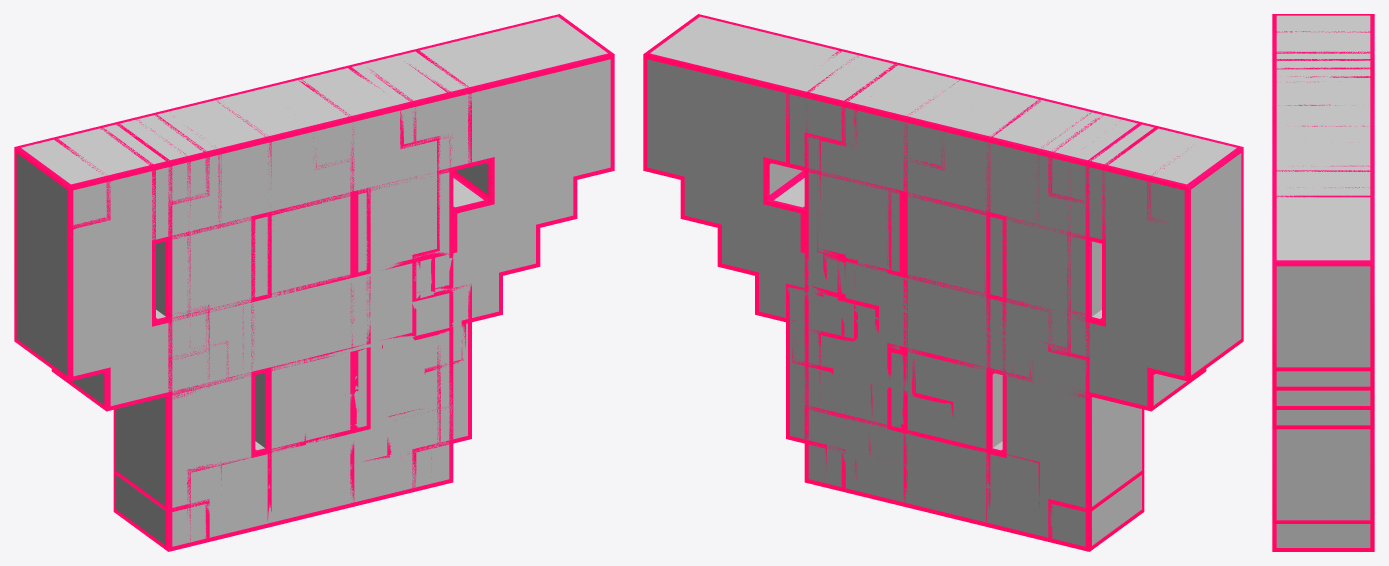
Rendered from Numbers.fbx.
The picture shows the model from 3 angles, left to right: view 1: azimuth 30°, elevation 25°; view 2: azimuth 150°, elevation 25°; view 3: azimuth 270°, elevation 25°; orthographic projection. The views are drawn at different scales.
Visible parts, largest first — view 1: 4, 2, 0, 7, 6, 9, 5, 3, 8, 1; view 2: 0, 4, 7, 2, 5, 6, 9, 3, 1, 8; view 3: 7, 5, 0, 4, 2, 9, 6, 3.
Part boxes in pixels (x1,y1,x2,y2): 4: (14,78,354,513); 2: (113,62,453,551); 0: (152,67,453,541); 7: (223,14,614,527); 6: (113,58,453,542); 9: (52,102,354,509); 5: (136,49,471,541); 3: (172,65,440,489); 8: (168,205,453,510); 1: (214,79,354,512); 0: (804,63,1106,540); 4: (903,79,1243,524); 7: (643,14,1040,483); 2: (804,62,1144,551); 5: (786,49,1124,483); 6: (804,53,1144,542); 9: (903,109,1192,439); 3: (817,83,1094,539); 1: (903,88,1042,527); 8: (804,133,1089,494); 7: (1272,144,1374,429); 5: (1272,67,1374,523); 0: (1272,76,1374,171); 4: (1272,14,1374,141); 2: (1272,59,1374,551); 9: (1272,31,1374,126); 6: (1272,104,1374,188); 3: (1272,81,1374,166).
Size of the model in its own units: 880 by 600 by 153.
